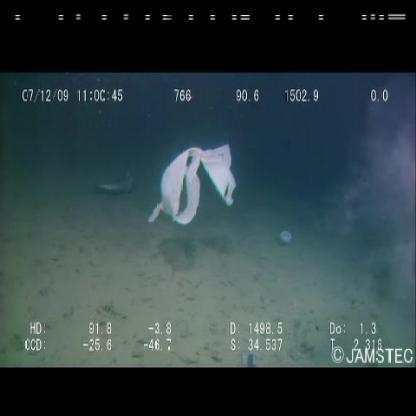Rác: (142, 138, 239, 232)
